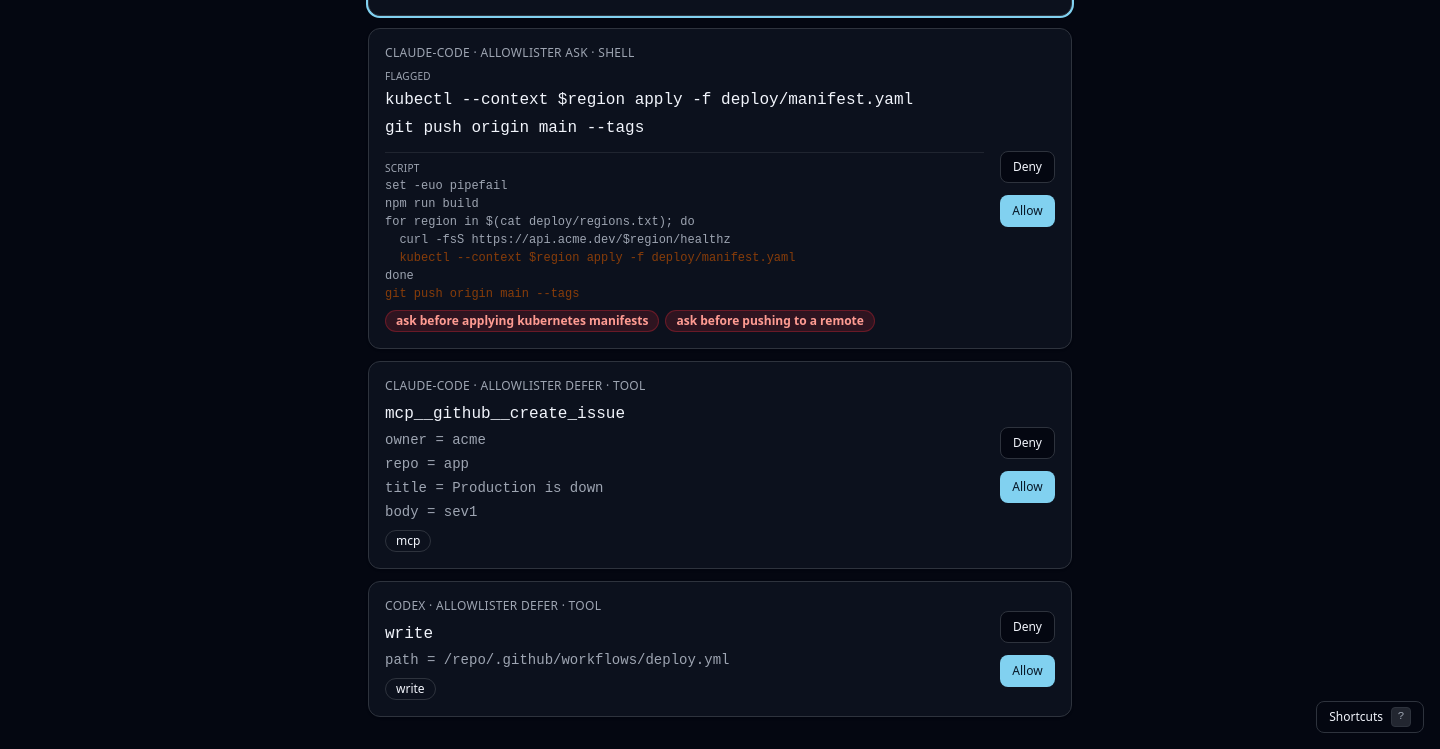
Test: App keyboard navigation (desktop) › toggles the tool detail view with the F and J keys
This screenshot has width=1440, height=749.
(page scrolled)
Click the button with aria-label "Open approval for mcp__github__create_issue" at [428, 386], box [385,378,984,552]
(page scrolled)
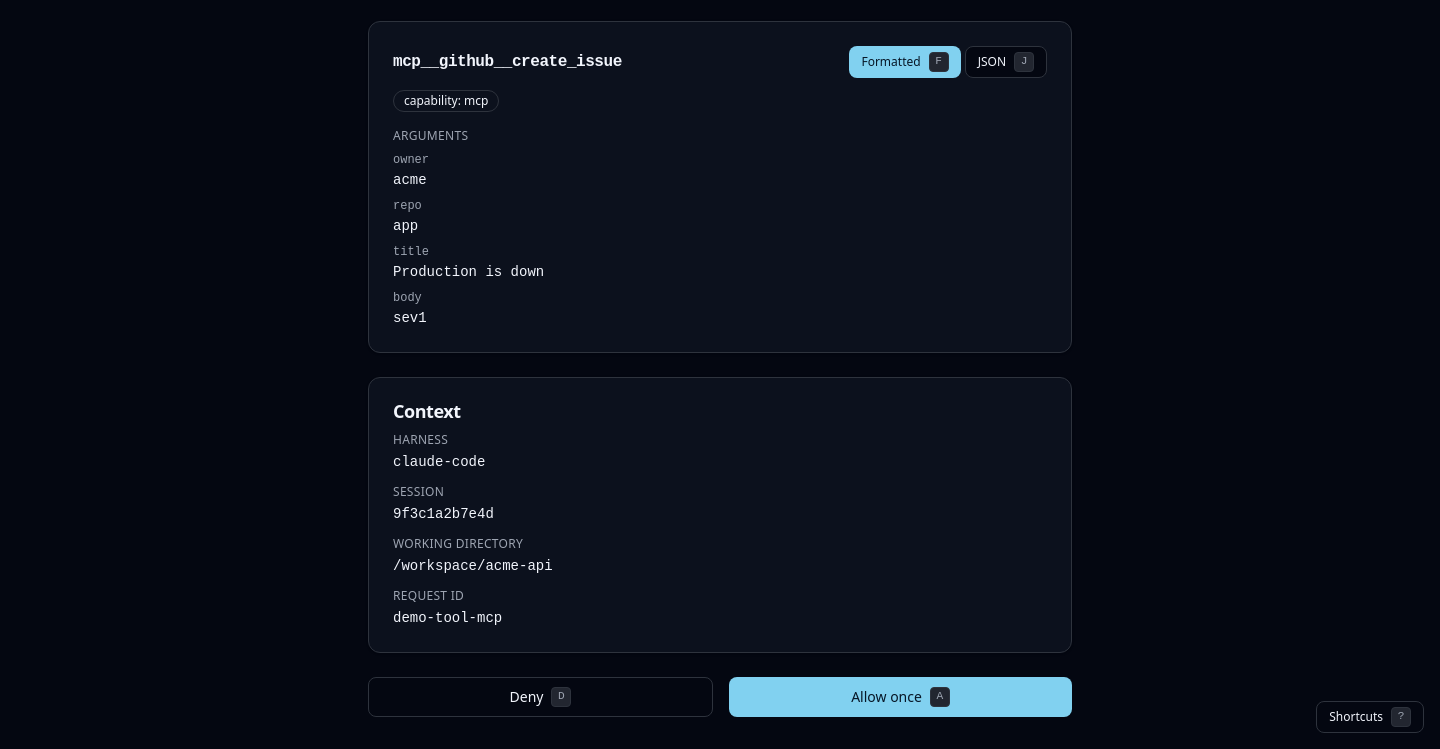
Expected: the element named "Tool call formatted view" is shown, [393,90,544,326]
Type keys "j"
(page scrolled)
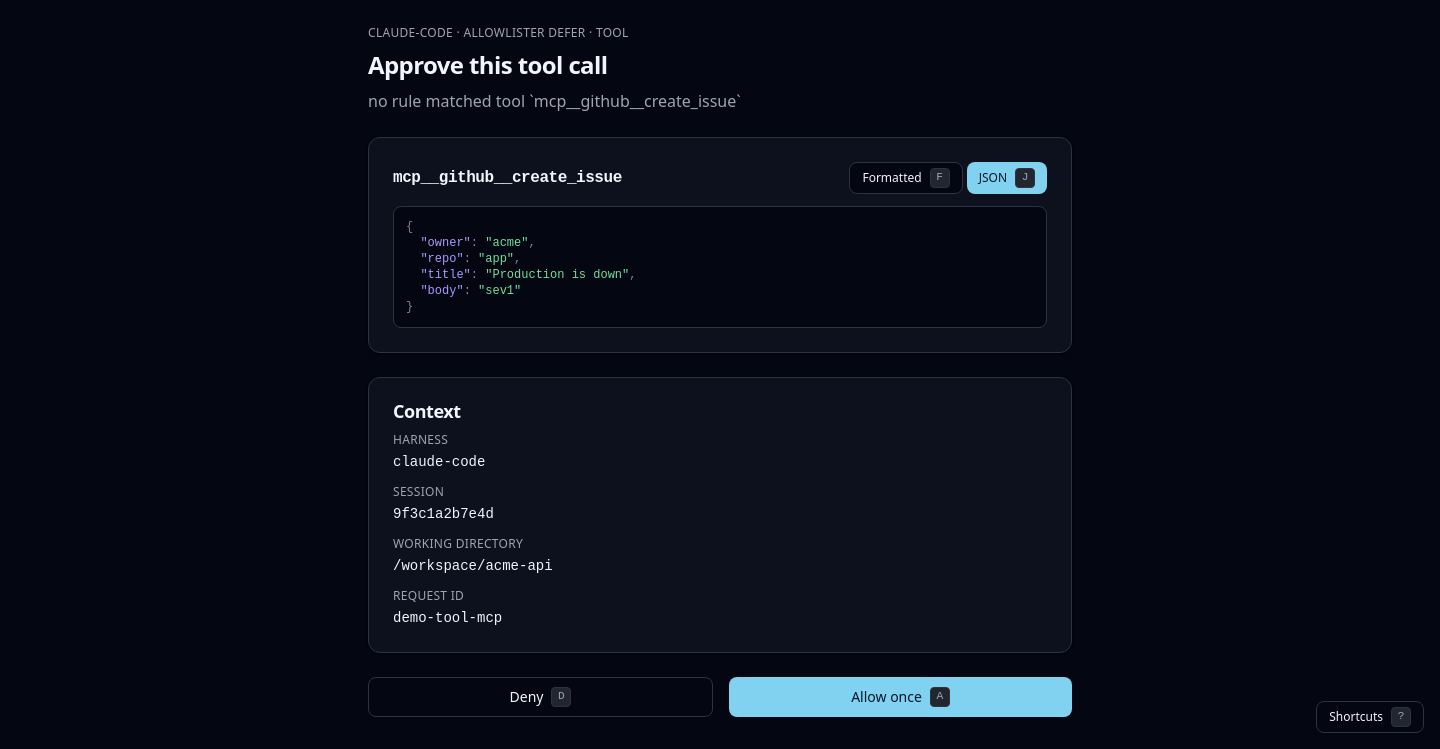
Expected: the element named "Tool call JSON view" is shown, [393,206,1047,328]
Type keys "f"
(page scrolled)
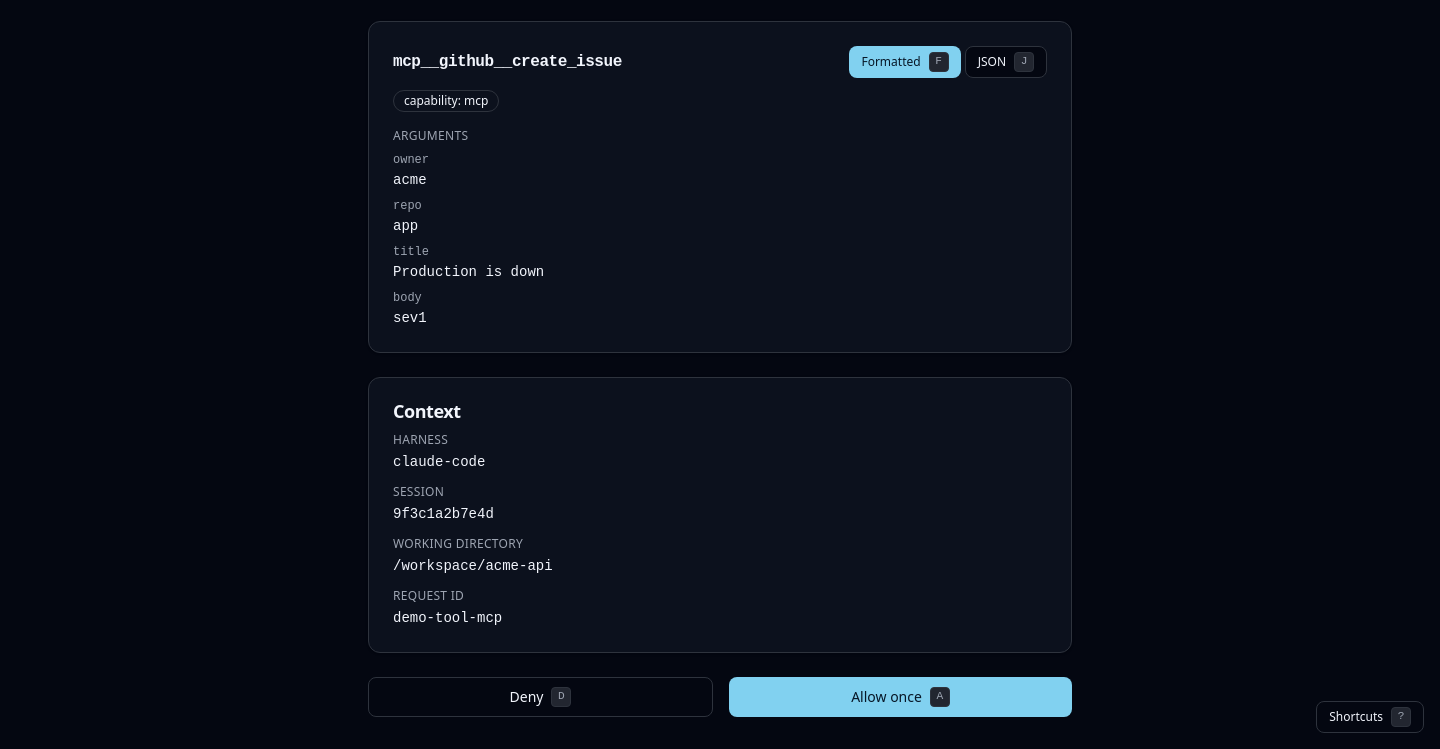
Expected: the element named "Tool call formatted view" is shown, [393,90,544,326]
